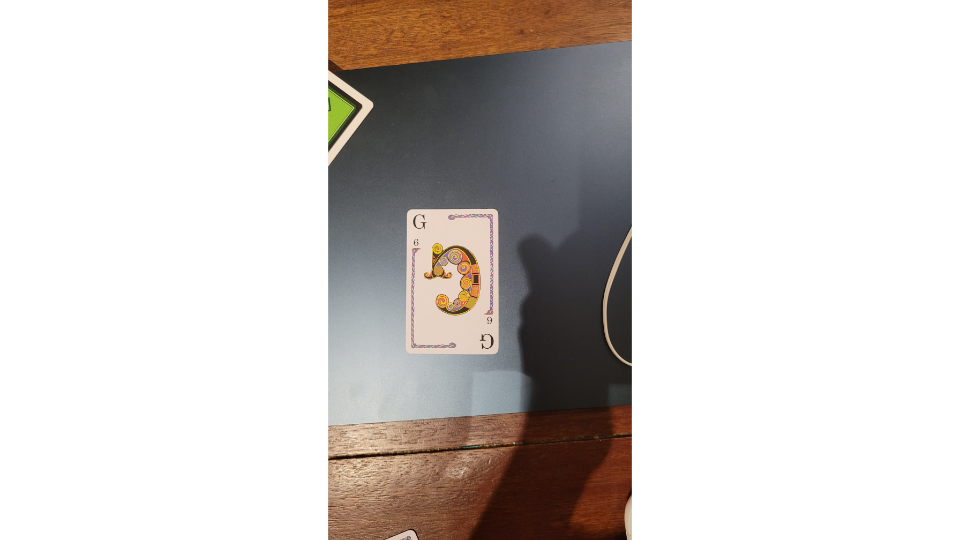G: (403, 206, 503, 358)
